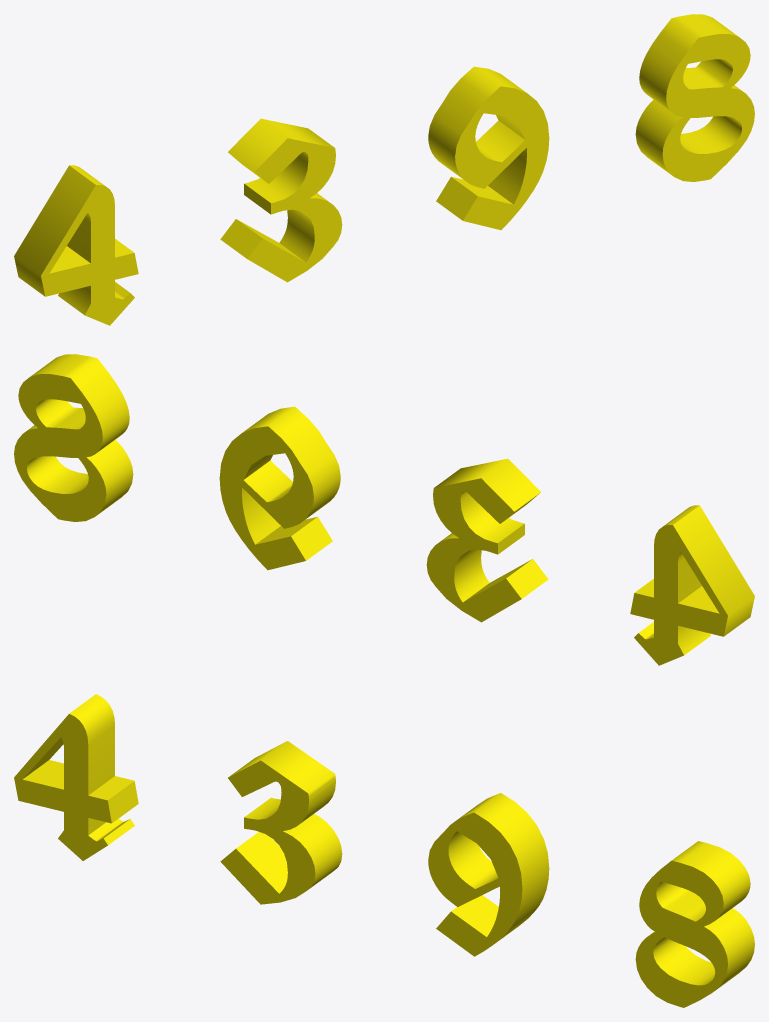
Rendered from WrittingForTheChest.fbx.
3 renders of one model, top to bottom at view 1: azimuth 30°, elevation 25°; view 2: azimuth 150°, elevation 25°; view 3: azimuth 330°, elevation 25°, orthographic.
Parts seen in each view (by area): view 1: node_id33; view 2: node_id33; view 3: node_id33.
Part boxes in pixels (<box>): node_id33: <box>14,14,754,325</box>; node_id33: <box>14,354,754,665</box>; node_id33: <box>14,694,754,1007</box>.
Size of the model in its own units: 0.2875 by 0.0555 by 0.0188.
